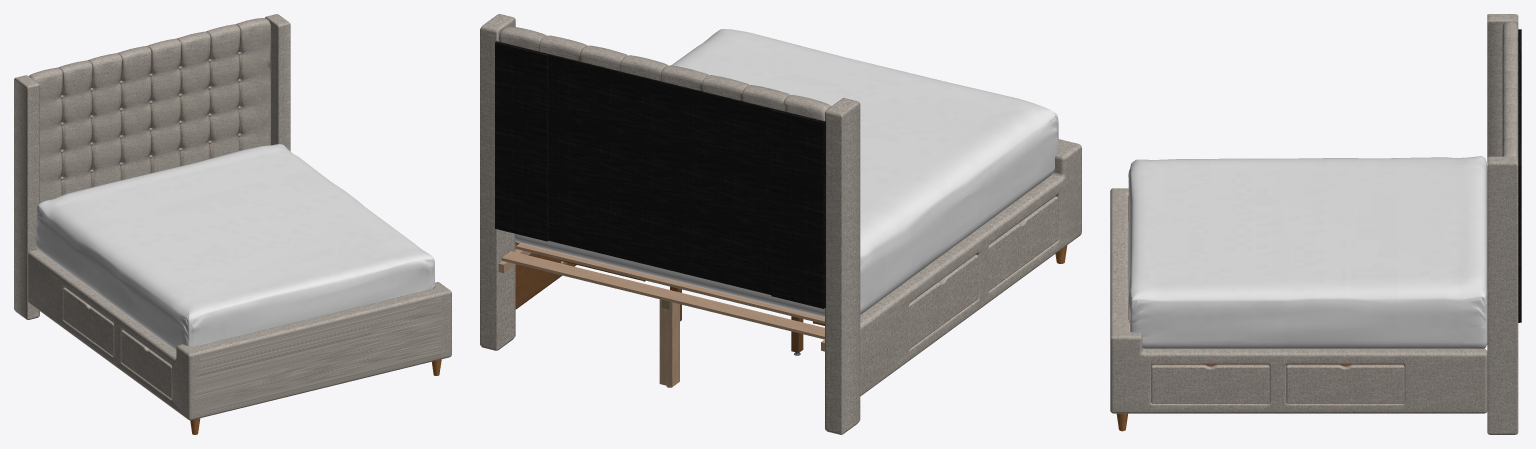
The model's file is B075QDMWTM.glb.
The picture shows the model from 3 angles, left to right: view 1: azimuth 30°, elevation 25°; view 2: azimuth 150°, elevation 25°; view 3: azimuth 270°, elevation 25°; orthographic projection. The views are drawn at different scales.
Parts seen in each view (by area): view 1: RootNode; view 2: RootNode; view 3: RootNode.
Boxes of the visible parts, left/top/right/bottom form: RootNode: left=14, top=14, right=451, bottom=434; RootNode: left=480, top=14, right=1081, bottom=434; RootNode: left=1110, top=14, right=1521, bottom=434.
Size of the model in its own units: 2.04 by 1.75 by 2.37.
1 material, 1 textured.
